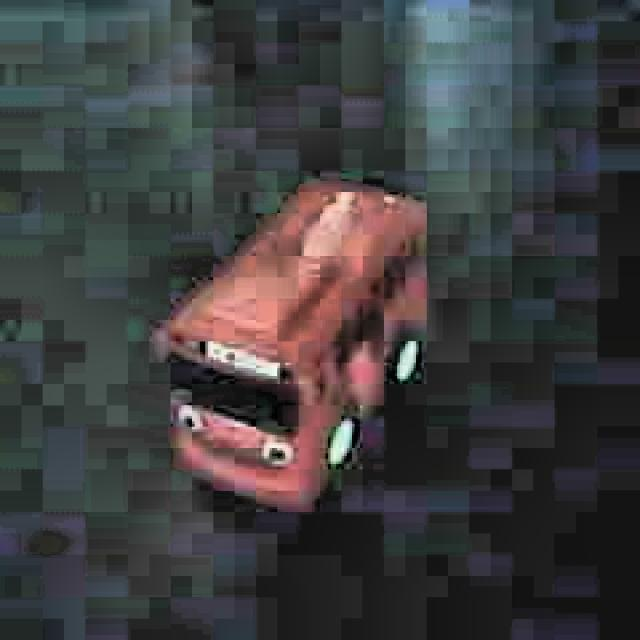bus: (141, 168, 442, 524)
